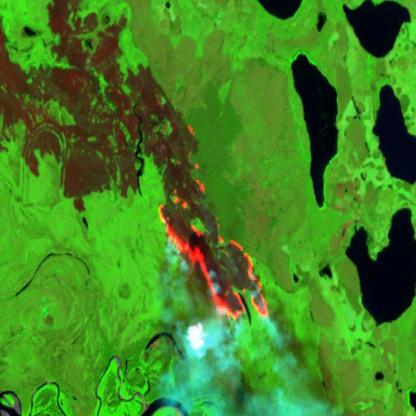fire: (152, 174, 270, 322)
